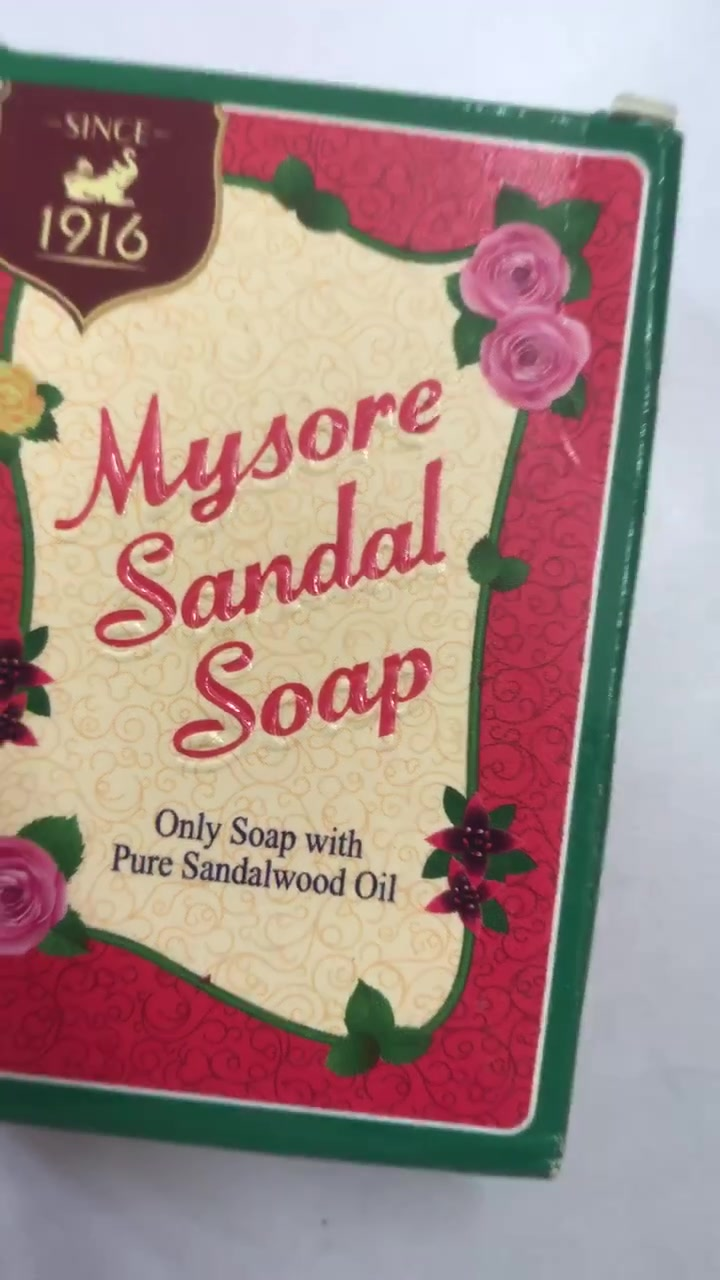mysore sandal soap: (10, 59, 614, 1152)
